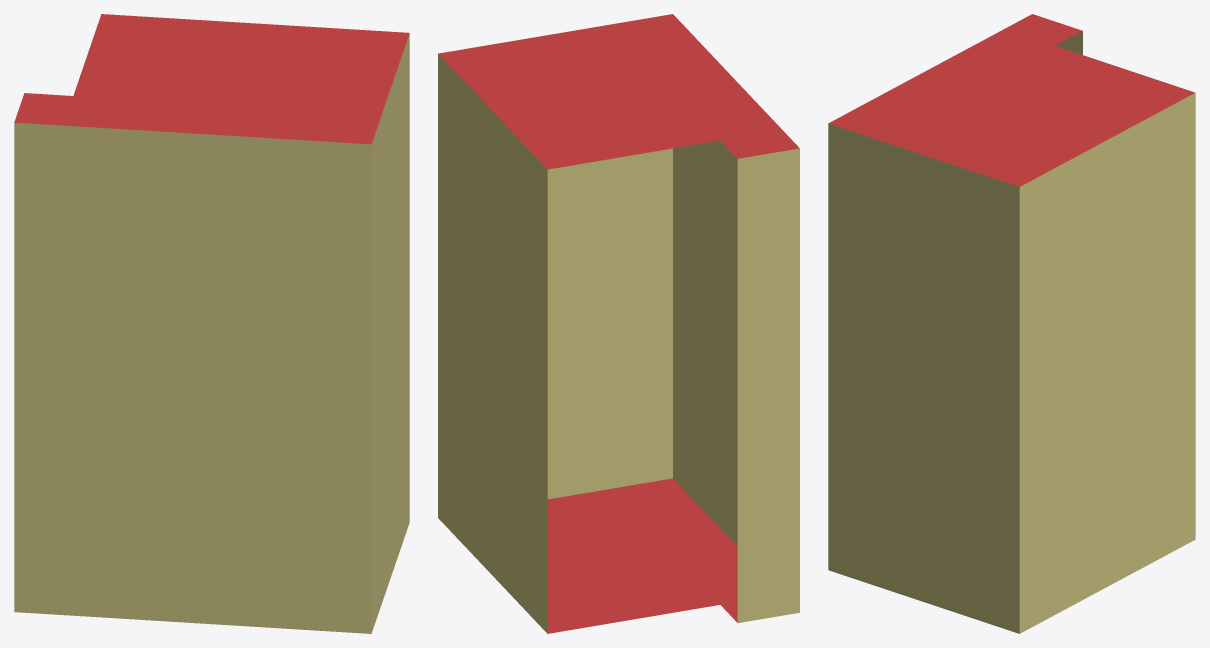
3 views of the same model, side by side, from view 1: azimuth 30°, elevation 25°; view 2: azimuth 150°, elevation 25°; view 3: azimuth 270°, elevation 25° (orthographic). The views are drawn at different scales.
Visible parts, largest first — view 1: group_4, group_3; view 2: group_4, group_3, group_5; view 3: group_4, group_3.
Boxes of the visible parts, x1,y1,x2,y2 form: group_4: (14,34,409,633); group_3: (14,14,409,144); group_4: (438,54,799,633); group_3: (438,14,799,169); group_5: (501,478,737,633); group_4: (828,31,1195,633); group_3: (828,14,1194,186).
Size of the model in its own units: 6.47 by 5.8 by 7.79.
